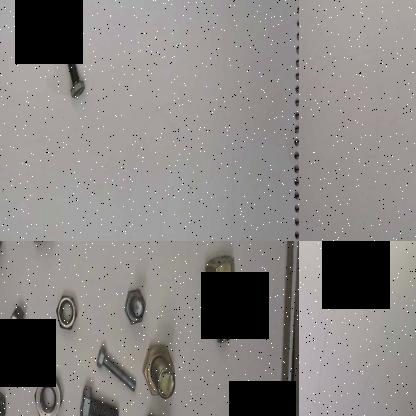Bolts: (199, 241, 241, 352), (140, 337, 178, 401), (95, 344, 137, 394), (120, 284, 150, 336), (78, 378, 118, 416), (63, 44, 86, 98)
NUTS: (31, 365, 64, 416), (52, 289, 78, 342), (4, 298, 26, 346), (0, 378, 9, 416)
